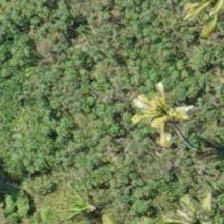coconut_tree: (114, 71, 204, 161), (153, 174, 223, 223)
